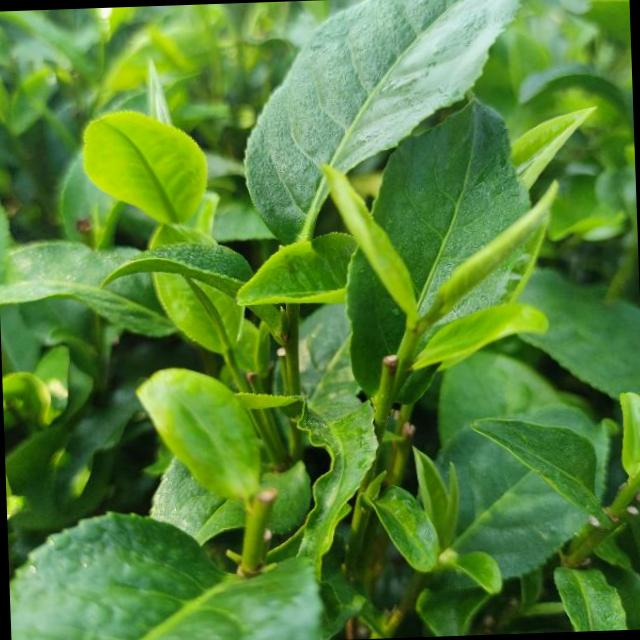Stem: (402, 327, 422, 346), (633, 472, 640, 485)
